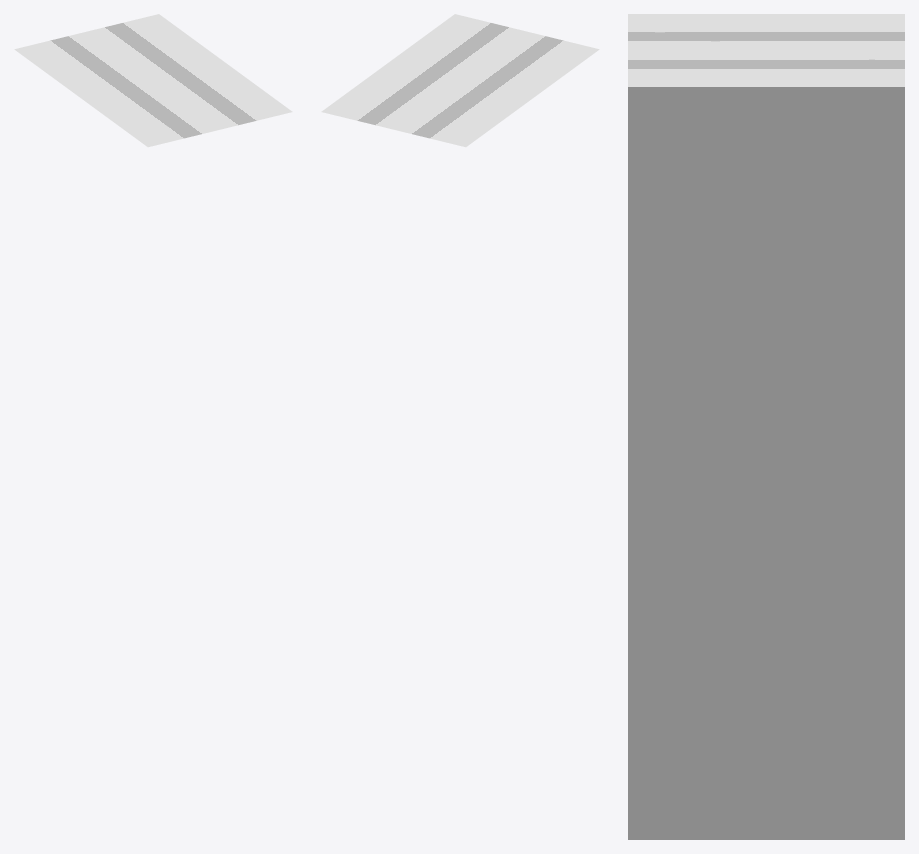
3 renders of one model, left to right at view 1: azimuth 30°, elevation 25°; view 2: azimuth 150°, elevation 25°; view 3: azimuth 270°, elevation 25°, orthographic. The views are drawn at different scales.
Bounding box in the file's own units: 0.625 × 3 × 1.
2 materials, 2 textured.
